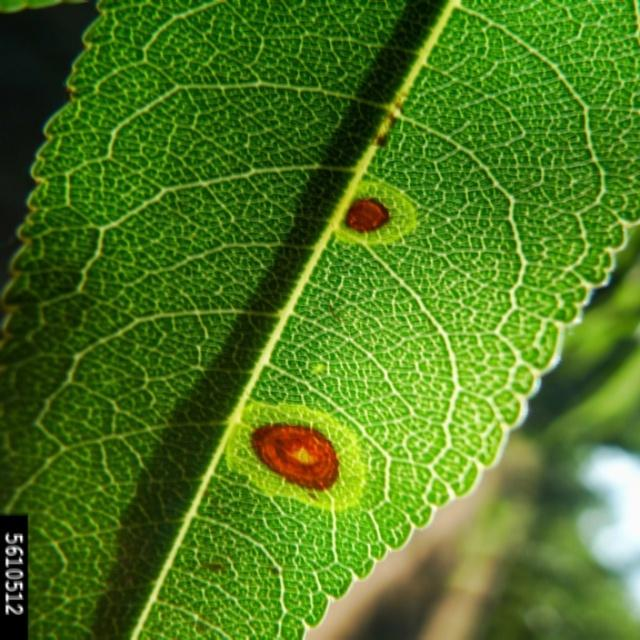leaf_spot: (154, 0, 640, 559)
